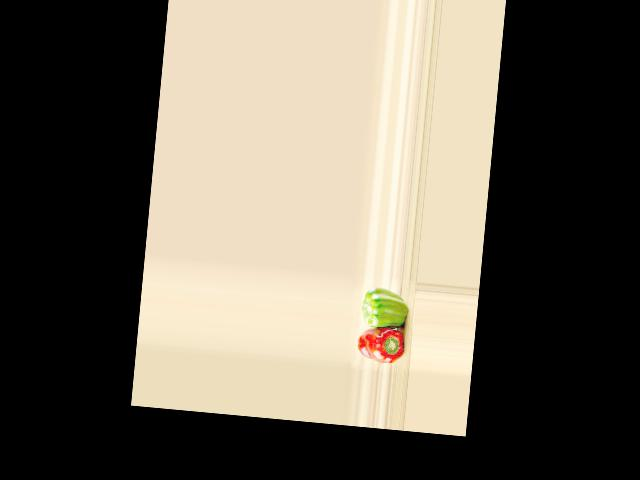bell_pepper: (355, 323, 405, 365)
